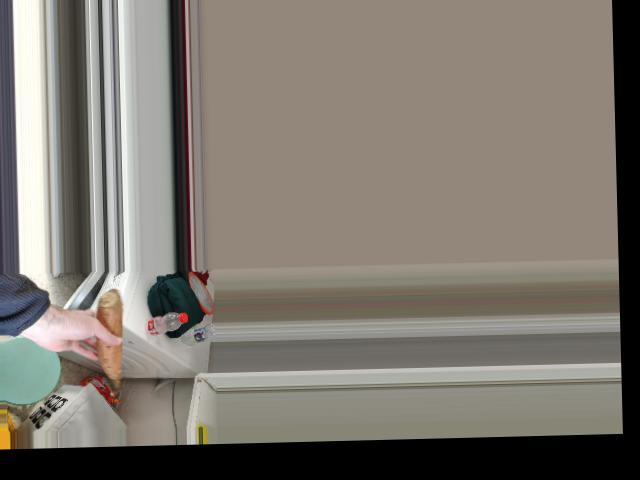sweet_potato: (95, 298, 123, 383)
